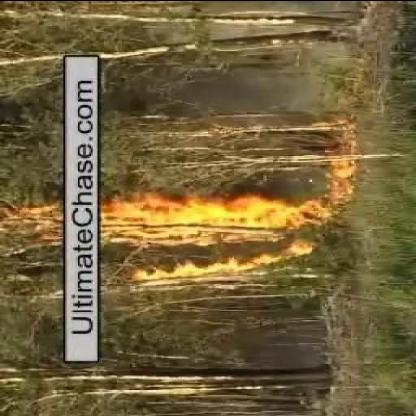foggia-v2-map80-epoch100 - v1 4323: (102, 194, 300, 240), (22, 206, 62, 230)
